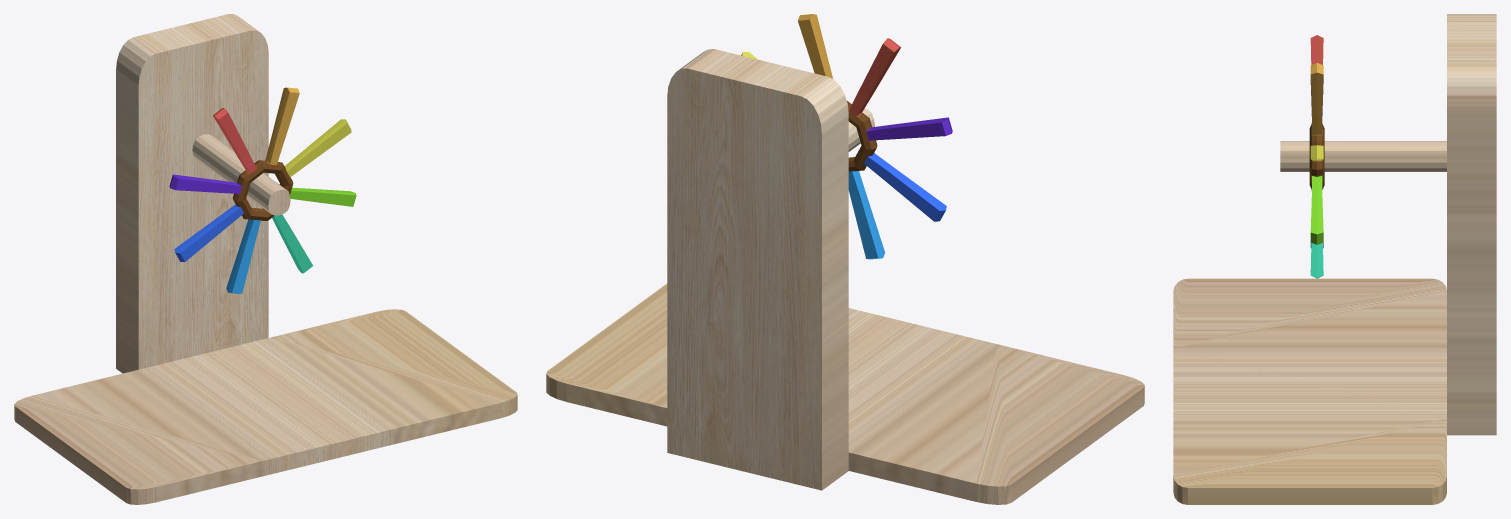
The model's file is SpinToy.fbx.
3 views of the same model, side by side, from view 1: azimuth 30°, elevation 25°; view 2: azimuth 150°, elevation 25°; view 3: azimuth 270°, elevation 25° (orthographic). The views are drawn at different scales.
Visible parts, largest first — view 1: Base, Spinner; view 2: Base, Spinner; view 3: Base, Spinner.
Part boxes in pixels (x1,y1,x2,y2): Base: (14,14,517,504); Spinner: (169,87,356,293); Base: (546,49,1144,504); Spinner: (741,14,952,259); Base: (1173,14,1496,504); Spinner: (1309,35,1324,278).
Bounding box in the file's own units: 1200 × 961 × 783.
